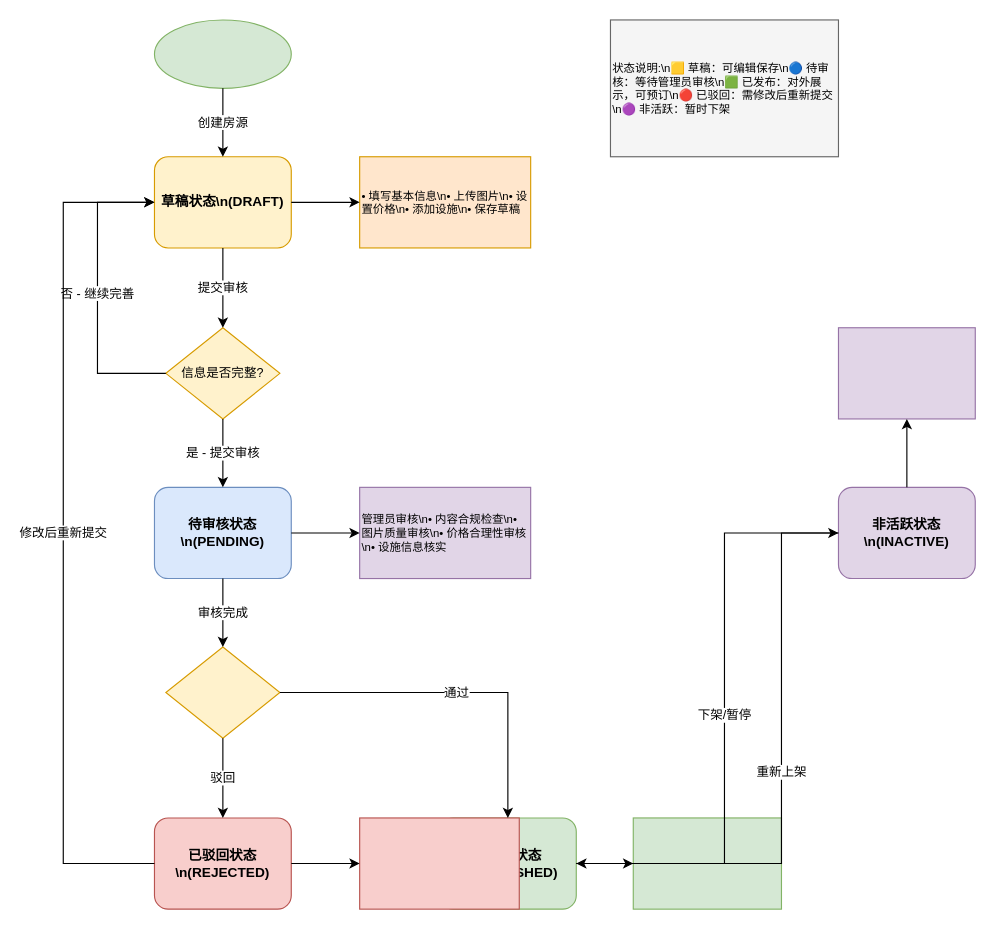
Image size: 995x929. Some labels were removed from this diagram. The shapes that lost their labels are listed below. From the top down, each one's centre as x and y in pixels, then its label:
At pixel 222 53: "房东开始发布".
At pixel 906 373: "非活跃原因:\n• 房东主动下架\n• 房源不可用\n• 违规下架\n• 系统暂停".
At pixel 222 692: "审核结果?".
At pixel 439 863: "常见驳回原因:\n• 图片不清晰\n• 价格异常\n• 描述违规\n• 设施虚假\n• 联系信息错误".
At pixel 706 863: "发布后功能:\n• 用户可搜索\n• 接受预订\n• 收藏评价\n• 推荐展示".
